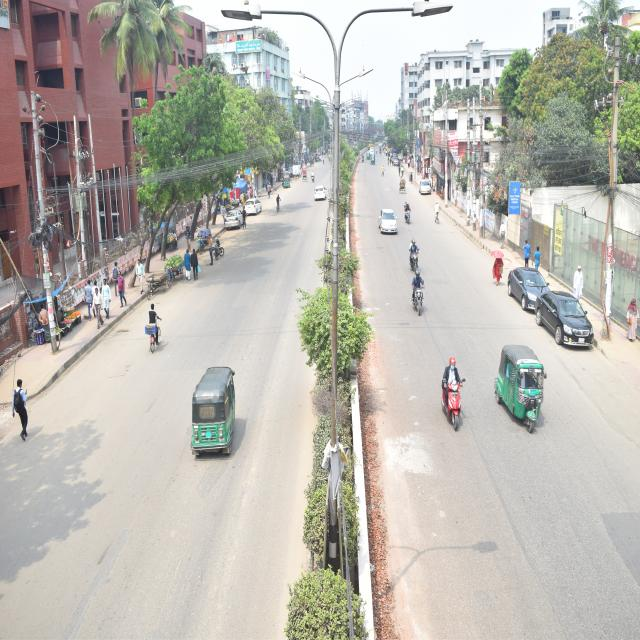car: (531, 279, 602, 365), (500, 248, 564, 316), (366, 190, 401, 244), (214, 202, 248, 235), (413, 170, 441, 202), (242, 191, 268, 222), (309, 176, 331, 207)
motorbike: (431, 342, 473, 440), (186, 222, 234, 263), (410, 262, 429, 328), (403, 241, 426, 286), (403, 190, 418, 238), (304, 160, 319, 188)
